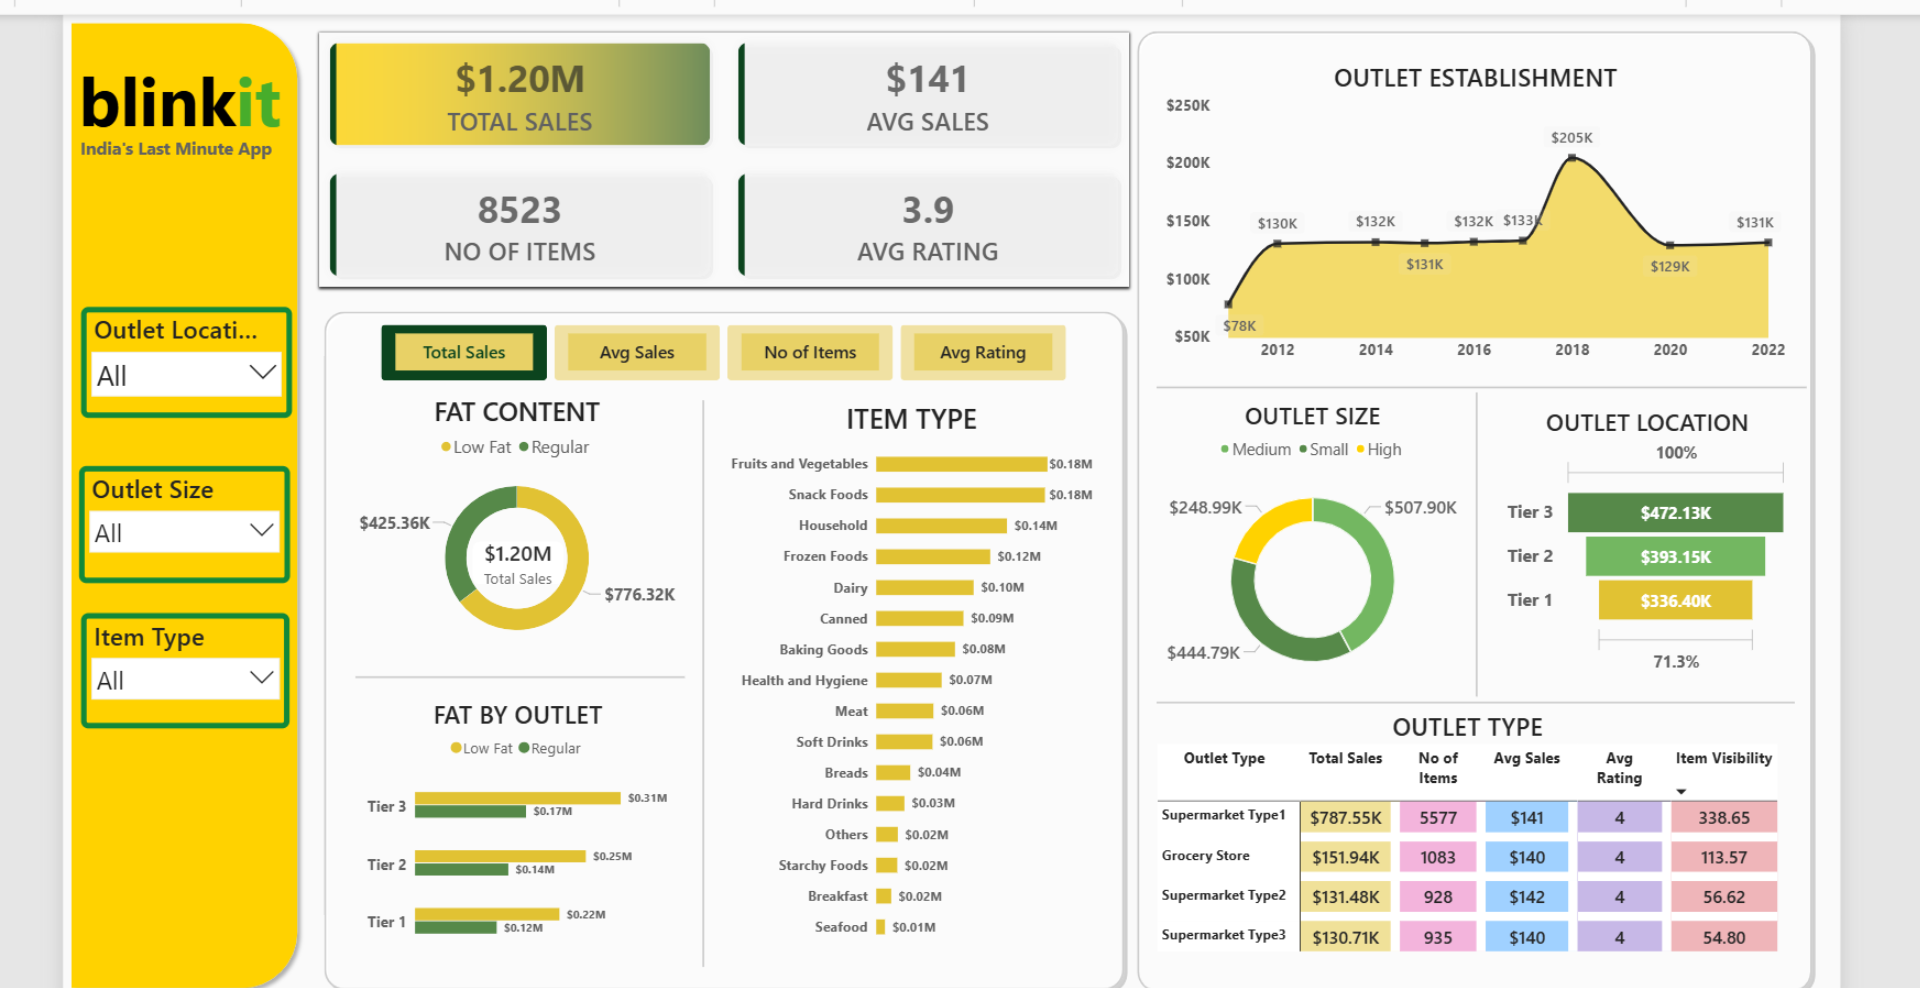

The page's visual inventory and layout, read from the dashboard file:
{"tool":"powerbi","page":{"name":"Page 1","canvas":[1920,1080],"ordinal":0},"visuals":[{"type":"shape","box":[0,0,262.1,1061.4],"z":0},{"type":"textbox","box":[309.4,19.3,221.3,90.2],"z":1000},{"type":"textbox","box":[0,132,244,54],"z":2000},{"type":"cardVisual","fields":{"Data":["BlinkIT Grocery Data.Total Sales","BlinkIT Grocery Data.Avg Sales","BlinkIT Grocery Data.No of Items","BlinkIT Grocery Data.Avg Rating"]},"box":[277.2,19.3,874.5,275],"z":3000},{"type":"shape","box":[277.2,315.8,874.5,743.4],"z":4000},{"type":"donutChart","title":"FAT CONTENT","fields":{"Category":["BlinkIT Grocery Data.Item Fat Content"],"Y":["BlinkIT Grocery Data.Total Sales"]},"box":[310,396,362,312],"z":5000},{"type":"advancedSlicerVisual","fields":{"Label":["BlinkIT Grocery Data.Avg Rating"],"Values":["Metrics.Metrics"]},"box":[343.8,335.2,741.3,60.2],"z":6000},{"type":"cardVisual","fields":{"Data":["BlinkIT Grocery Data.Total Sales"]},"box":[442,570,98,46],"z":7000},{"type":"clusteredBarChart","title":"FAT BY OUTLET","fields":{"Category":["BlinkIT Grocery Data.Outlet Location Type"],"Series":["BlinkIT Grocery Data.Item Fat Content"],"Y":["BlinkIT Grocery Data.Total Sales"]},"box":[312,724,360,314],"z":8000},{"type":"shape","box":[316,678,356,74],"z":9000},{"type":"shape","box":[668.2,416.8,47.3,612.3],"z":10000},{"type":"textbox","box":[18,42,244,116],"z":11000},{"type":"barChart","title":"ITEM TYPE","fields":{"Category":["BlinkIT Grocery Data.Item Type"],"Y":["BlinkIT Grocery Data.Total Sales"]},"box":[704,402,424,622],"z":12000},{"type":"shape","box":[1155.9,12.9,739.1,1048.5],"z":13000},{"type":"lineChart","title":"OUTLET ESTABLISHMENT","fields":{"Category":["BlinkIT Grocery Data.Outlet Establishment Year"],"Y":["BlinkIT Grocery Data.Total Sales"]},"box":[1175.3,34.4,702.6,361],"z":14000},{"type":"donutChart","title":"OUTLET SIZE","fields":{"Category":["BlinkIT Grocery Data.Outlet Size"],"Y":["BlinkIT Grocery Data.Total Sales"]},"box":[1175.3,401.8,350.2,350.2],"z":14001},{"type":"funnel","title":"OUTLET LOCATION","fields":{"Category":["BlinkIT Grocery Data.Outlet Location Type"],"Y":["BlinkIT Grocery Data.Total Sales"]},"box":[1544.8,408.2,335.2,320.1],"z":14002},{"type":"shape","box":[1181.7,365.3,702.6,75.2],"z":14004},{"type":"shape","box":[1181.7,715.5,689.7,55.9],"z":14005},{"type":"shape","box":[1506.2,408.2,43,328.7],"z":14006},{"type":"pivotTable","title":"OUTLET TYPE","fields":{"Rows":["BlinkIT Grocery Data.Outlet Type"],"Values":["BlinkIT Grocery Data.Total Sales","BlinkIT Grocery Data.No of Items","BlinkIT Grocery Data.Avg Sales","BlinkIT Grocery Data.Avg Rating","Sum(BlinkIT Grocery Data.Item Visibility)"]},"box":[1166.7,737,702.6,300.8],"z":14007},{"type":"slicer","fields":{"Values":["BlinkIT Grocery Data.Outlet Location Type"]},"box":[19.3,315.8,227.8,120.3],"z":14008},{"type":"slicer","fields":{"Values":["BlinkIT Grocery Data.Outlet Size"]},"box":[17.2,487.7,227.8,126.8],"z":14009},{"type":"slicer","fields":{"Values":["BlinkIT Grocery Data.Item Type"]},"box":[19.3,646.7,225.6,124.6],"z":14010}]}

Visuals, with their boxes on the page's 1920x1080 design canvas (x1, y1, x2, y2). These are canvas units, not pixel positions in the 1920x988 screenshot, which may show the page scaled, cropped or inside an application window:
shape: (0, 0, 262, 1061)
textbox: (309, 19, 531, 110)
textbox: (0, 132, 244, 186)
cardVisual - BlinkIT Grocery Data.Total Sales x BlinkIT Grocery Data.Avg Sales: (277, 19, 1152, 294)
shape: (277, 316, 1152, 1059)
"FAT CONTENT" donutChart: (310, 396, 672, 708)
advancedSlicerVisual - BlinkIT Grocery Data.Avg Rating x Metrics.Metrics: (344, 335, 1085, 395)
cardVisual - BlinkIT Grocery Data.Total Sales: (442, 570, 540, 616)
"FAT BY OUTLET" clusteredBarChart: (312, 724, 672, 1038)
shape: (316, 678, 672, 752)
shape: (668, 417, 716, 1029)
textbox: (18, 42, 262, 158)
"ITEM TYPE" barChart: (704, 402, 1128, 1024)
shape: (1156, 13, 1895, 1061)
"OUTLET ESTABLISHMENT" lineChart: (1175, 34, 1878, 395)
"OUTLET SIZE" donutChart: (1175, 402, 1526, 752)
"OUTLET LOCATION" funnel: (1545, 408, 1880, 728)
shape: (1182, 365, 1884, 440)
shape: (1182, 716, 1871, 771)
shape: (1506, 408, 1549, 737)
"OUTLET TYPE" pivotTable: (1167, 737, 1869, 1038)
slicer - BlinkIT Grocery Data.Outlet Location Type: (19, 316, 247, 436)
slicer - BlinkIT Grocery Data.Outlet Size: (17, 488, 245, 614)
slicer - BlinkIT Grocery Data.Item Type: (19, 647, 245, 771)
